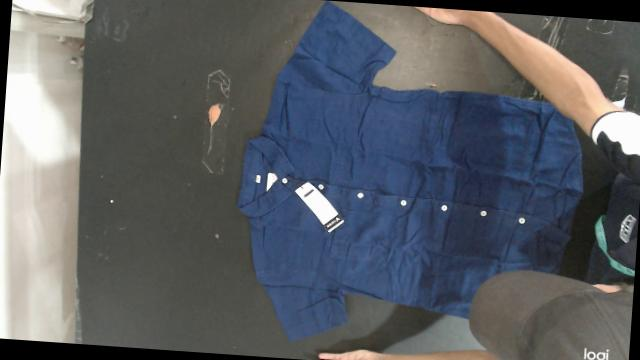new-garment: (238, 1, 582, 339)
